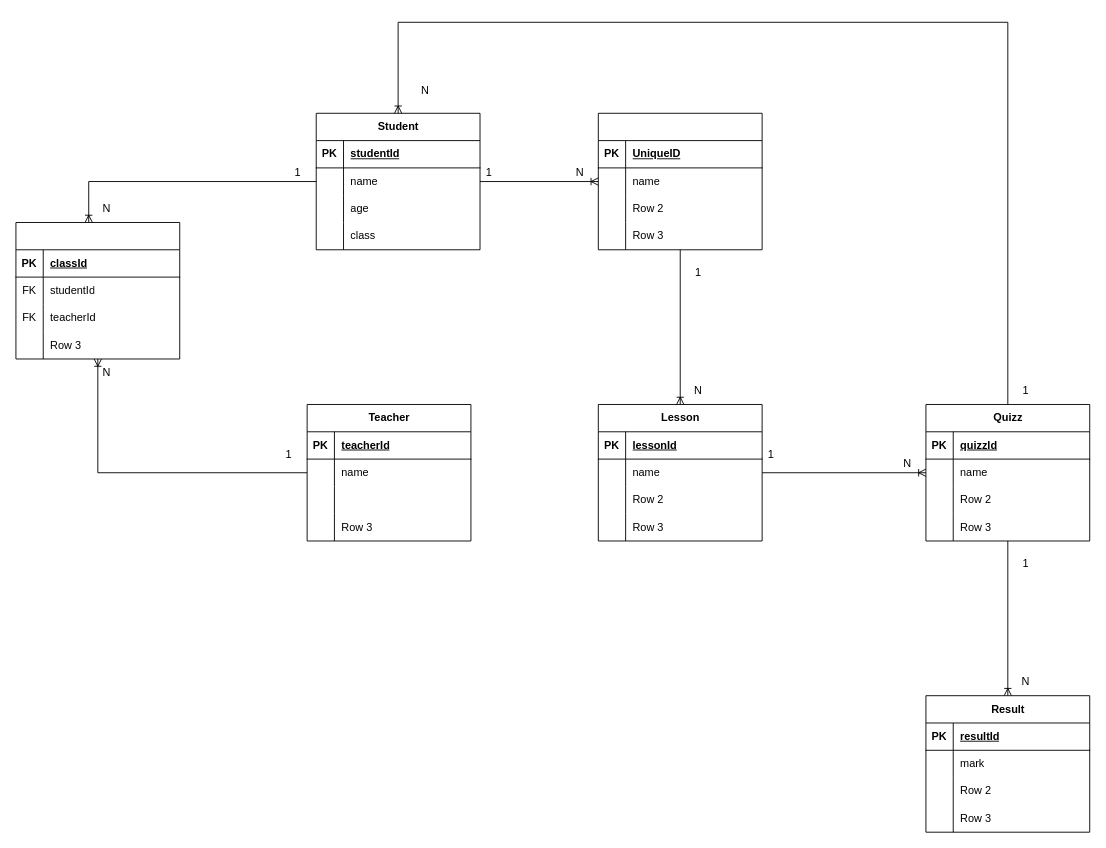
Some shapes in this 1106 by 848 pixel diagram are drawn without their labels. Each missing label, with the box of its shape:
Classroom: (15, 222, 180, 359)
Course: (597, 112, 762, 250)
